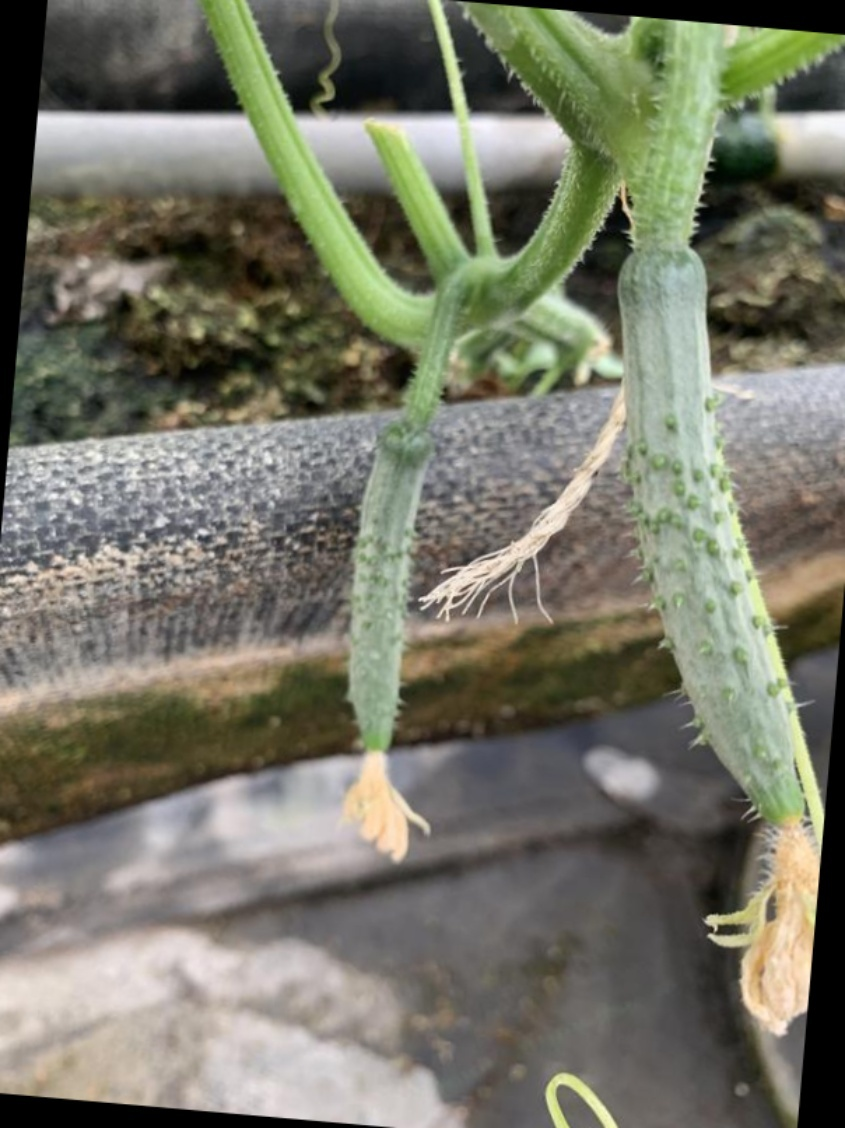growth: (600, 225, 819, 896)
